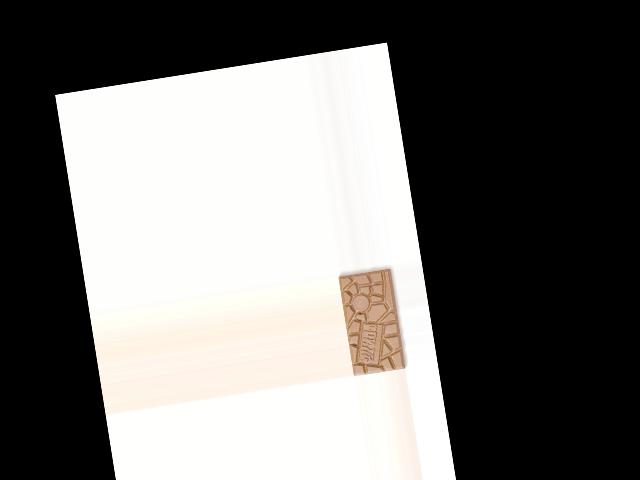chocolate: (338, 267, 408, 377)
